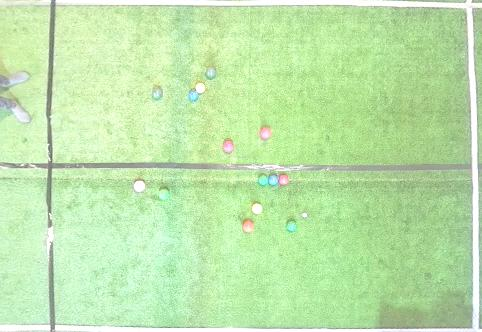blue: (188, 90, 199, 101), (268, 175, 278, 185)
green: (158, 189, 170, 200), (152, 88, 163, 99), (206, 68, 217, 79), (287, 221, 298, 232), (258, 175, 268, 185)
red: (133, 180, 145, 192), (243, 220, 254, 232), (223, 141, 234, 153), (260, 128, 271, 139), (279, 175, 289, 185)
vline: (1, 0, 57, 331), (463, 0, 481, 332)
white: (303, 213, 307, 217)
yellow: (252, 203, 262, 214), (196, 83, 205, 93)
